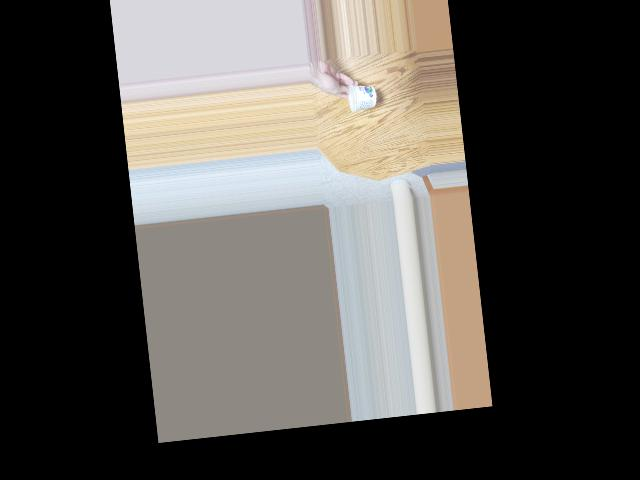cotage: (345, 83, 381, 119)
